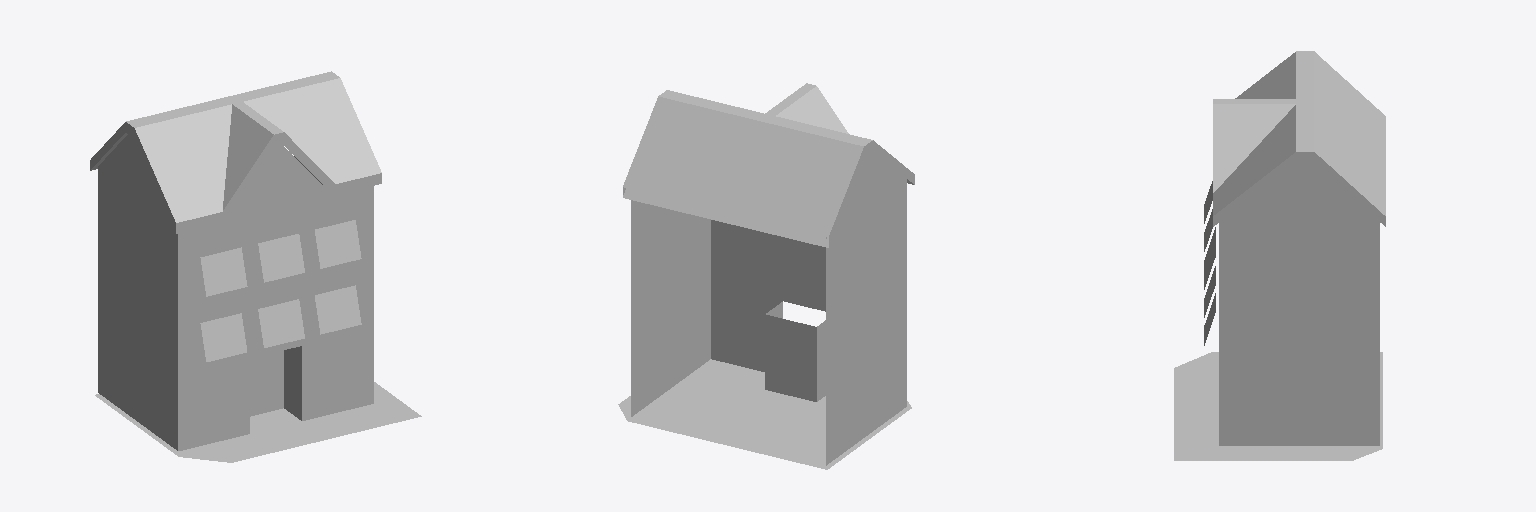
The model's file is Hearthome City Building.obj.
3 views of the same model, side by side, from view 1: azimuth 30°, elevation 25°; view 2: azimuth 150°, elevation 25°; view 3: azimuth 270°, elevation 25° (orthographic).
Visible parts, largest first — view 1: polygon3, polygon2, polygon0; view 2: polygon3, polygon0, polygon2, polygon1; view 3: polygon3, polygon0, polygon2.
Part boxes in pixels (bbox=[...]): polygon3: bbox=[90, 71, 381, 450]; polygon2: bbox=[200, 151, 361, 430]; polygon0: bbox=[95, 382, 421, 462]; polygon3: bbox=[623, 83, 914, 465]; polygon0: bbox=[618, 359, 911, 469]; polygon2: bbox=[765, 302, 825, 401]; polygon1: bbox=[732, 230, 822, 297]; polygon3: bbox=[1213, 51, 1385, 445]; polygon0: bbox=[1174, 352, 1382, 460]; polygon2: bbox=[1204, 181, 1215, 345].
Bounding box in the file's own units: 88 × 111 × 71.